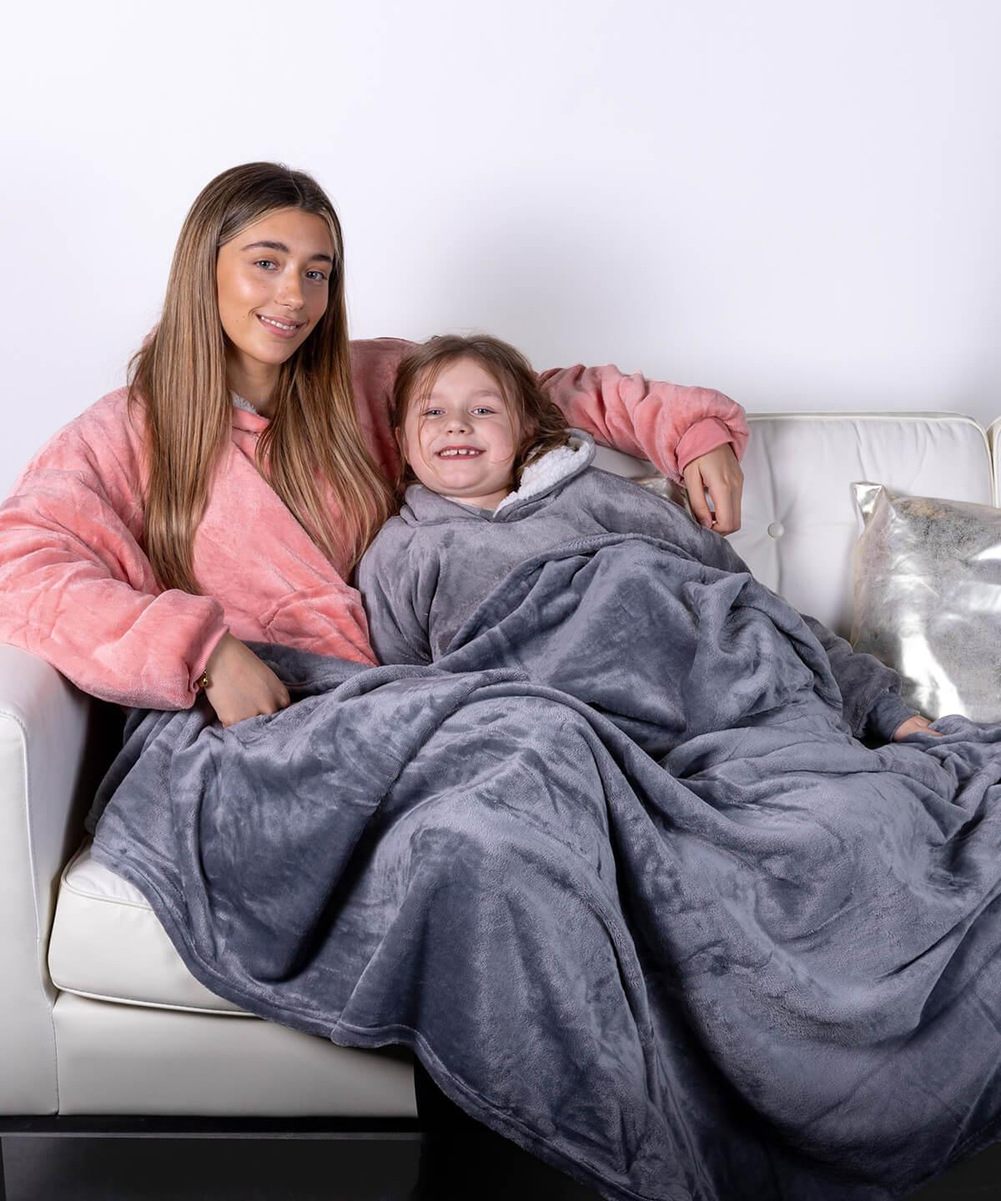blanket: (85, 532, 1001, 1199)
sweater: (0, 332, 751, 715), (356, 424, 936, 753)
